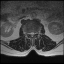CCS_normal: (31, 30, 33, 38)
LFS_stenosis: (35, 30, 37, 36)
LLS_normal: (33, 30, 35, 37)
RFS_normal: (27, 30, 29, 37)
RLS_normal: (29, 30, 31, 37)
